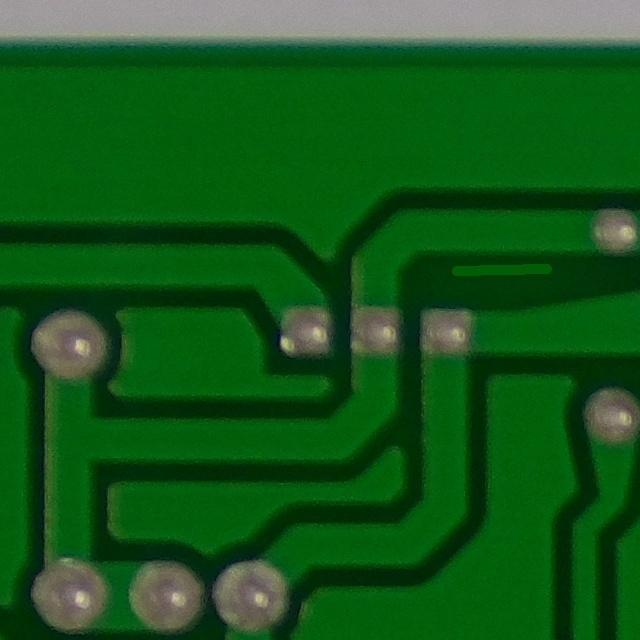spurious_copper: (435, 244, 568, 298)
